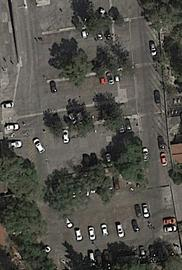parkingspot: (146, 14, 172, 184), (44, 101, 137, 131), (47, 118, 139, 148), (67, 245, 165, 270), (64, 203, 151, 229), (69, 219, 153, 245), (46, 71, 123, 97), (44, 57, 121, 83), (157, 185, 182, 256), (43, 24, 114, 48), (9, 139, 29, 156), (3, 122, 21, 139), (0, 99, 16, 113)
